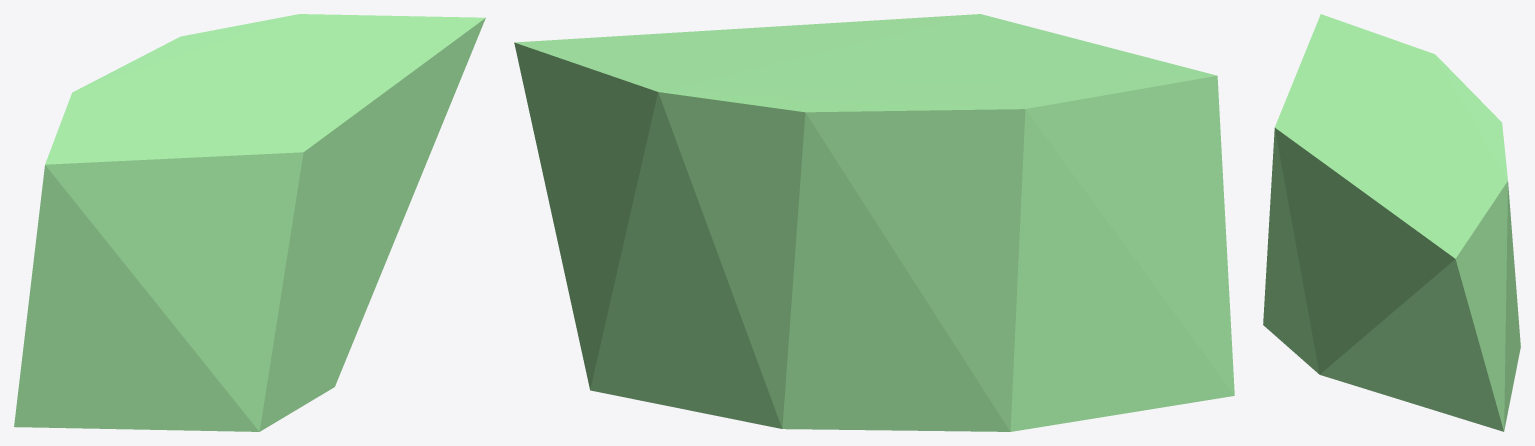
File: UMIRobot_UMIRobot_link_5_convex_coll_74.dae
3 views of the same model, side by side, from view 1: azimuth 30°, elevation 25°; view 2: azimuth 150°, elevation 25°; view 3: azimuth 270°, elevation 25° (orthographic). The views are drawn at different scales.
Parts seen in each view (by area): view 1: node; view 2: node; view 3: node.
Boxes of the visible parts, x1,y1,x2,y2 form: node: (14, 14, 485, 431); node: (514, 14, 1234, 431); node: (1263, 14, 1520, 431).
Bounding box in the file's own units: 0.00916 × 0.00471 × 0.00451.
